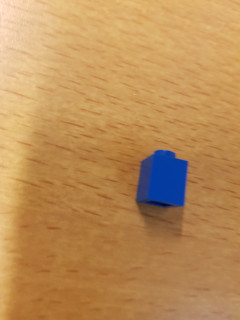1x1 blue: (133, 148, 190, 211)
